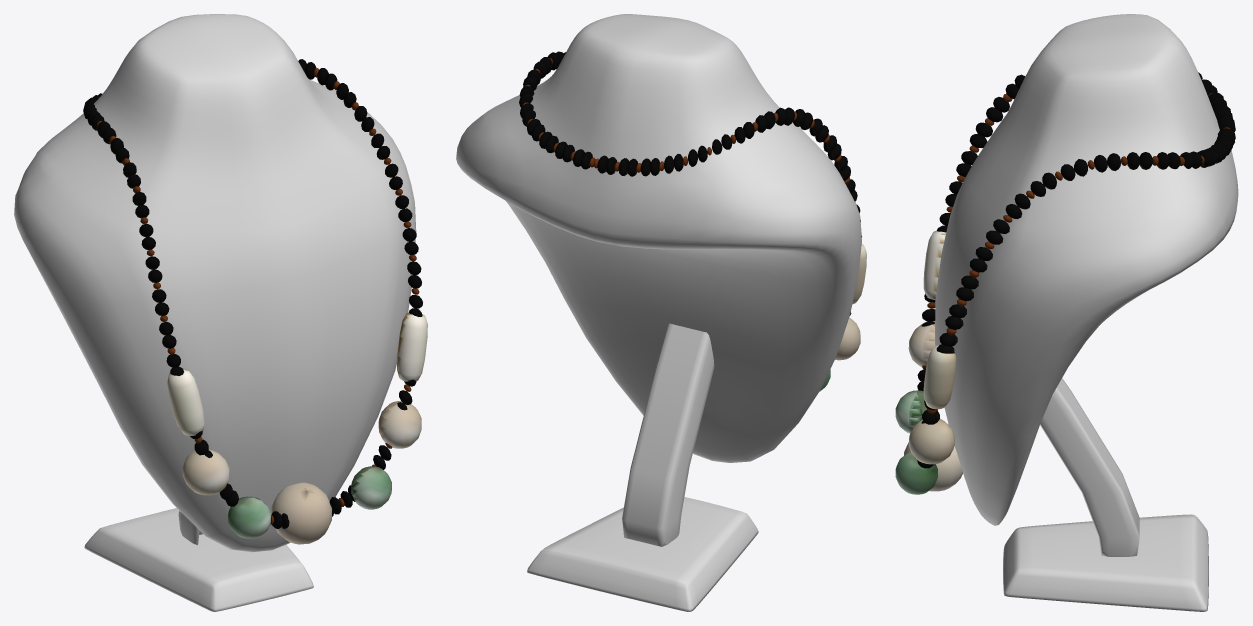
File: luxury-set.glb
The picture shows the model from 3 angles, left to right: view 1: azimuth 30°, elevation 25°; view 2: azimuth 150°, elevation 25°; view 3: azimuth 270°, elevation 25°; orthographic projection.
Visible parts, largest first — view 1: polySurface2, Icosphere; view 2: polySurface2, Icosphere; view 3: polySurface2, Icosphere.
Part boxes in pixels (x1,y1,x2,y2): polySurface2: (14,14,416,611); Icosphere: (83,59,427,544); polySurface2: (456,14,861,611); Icosphere: (519,51,866,391); polySurface2: (935,14,1238,611); Icosphere: (895,72,1235,494).
Size of the model in its own units: 1.48 by 2.05 by 1.19.
Materials: 2 (1 with a texture image).
